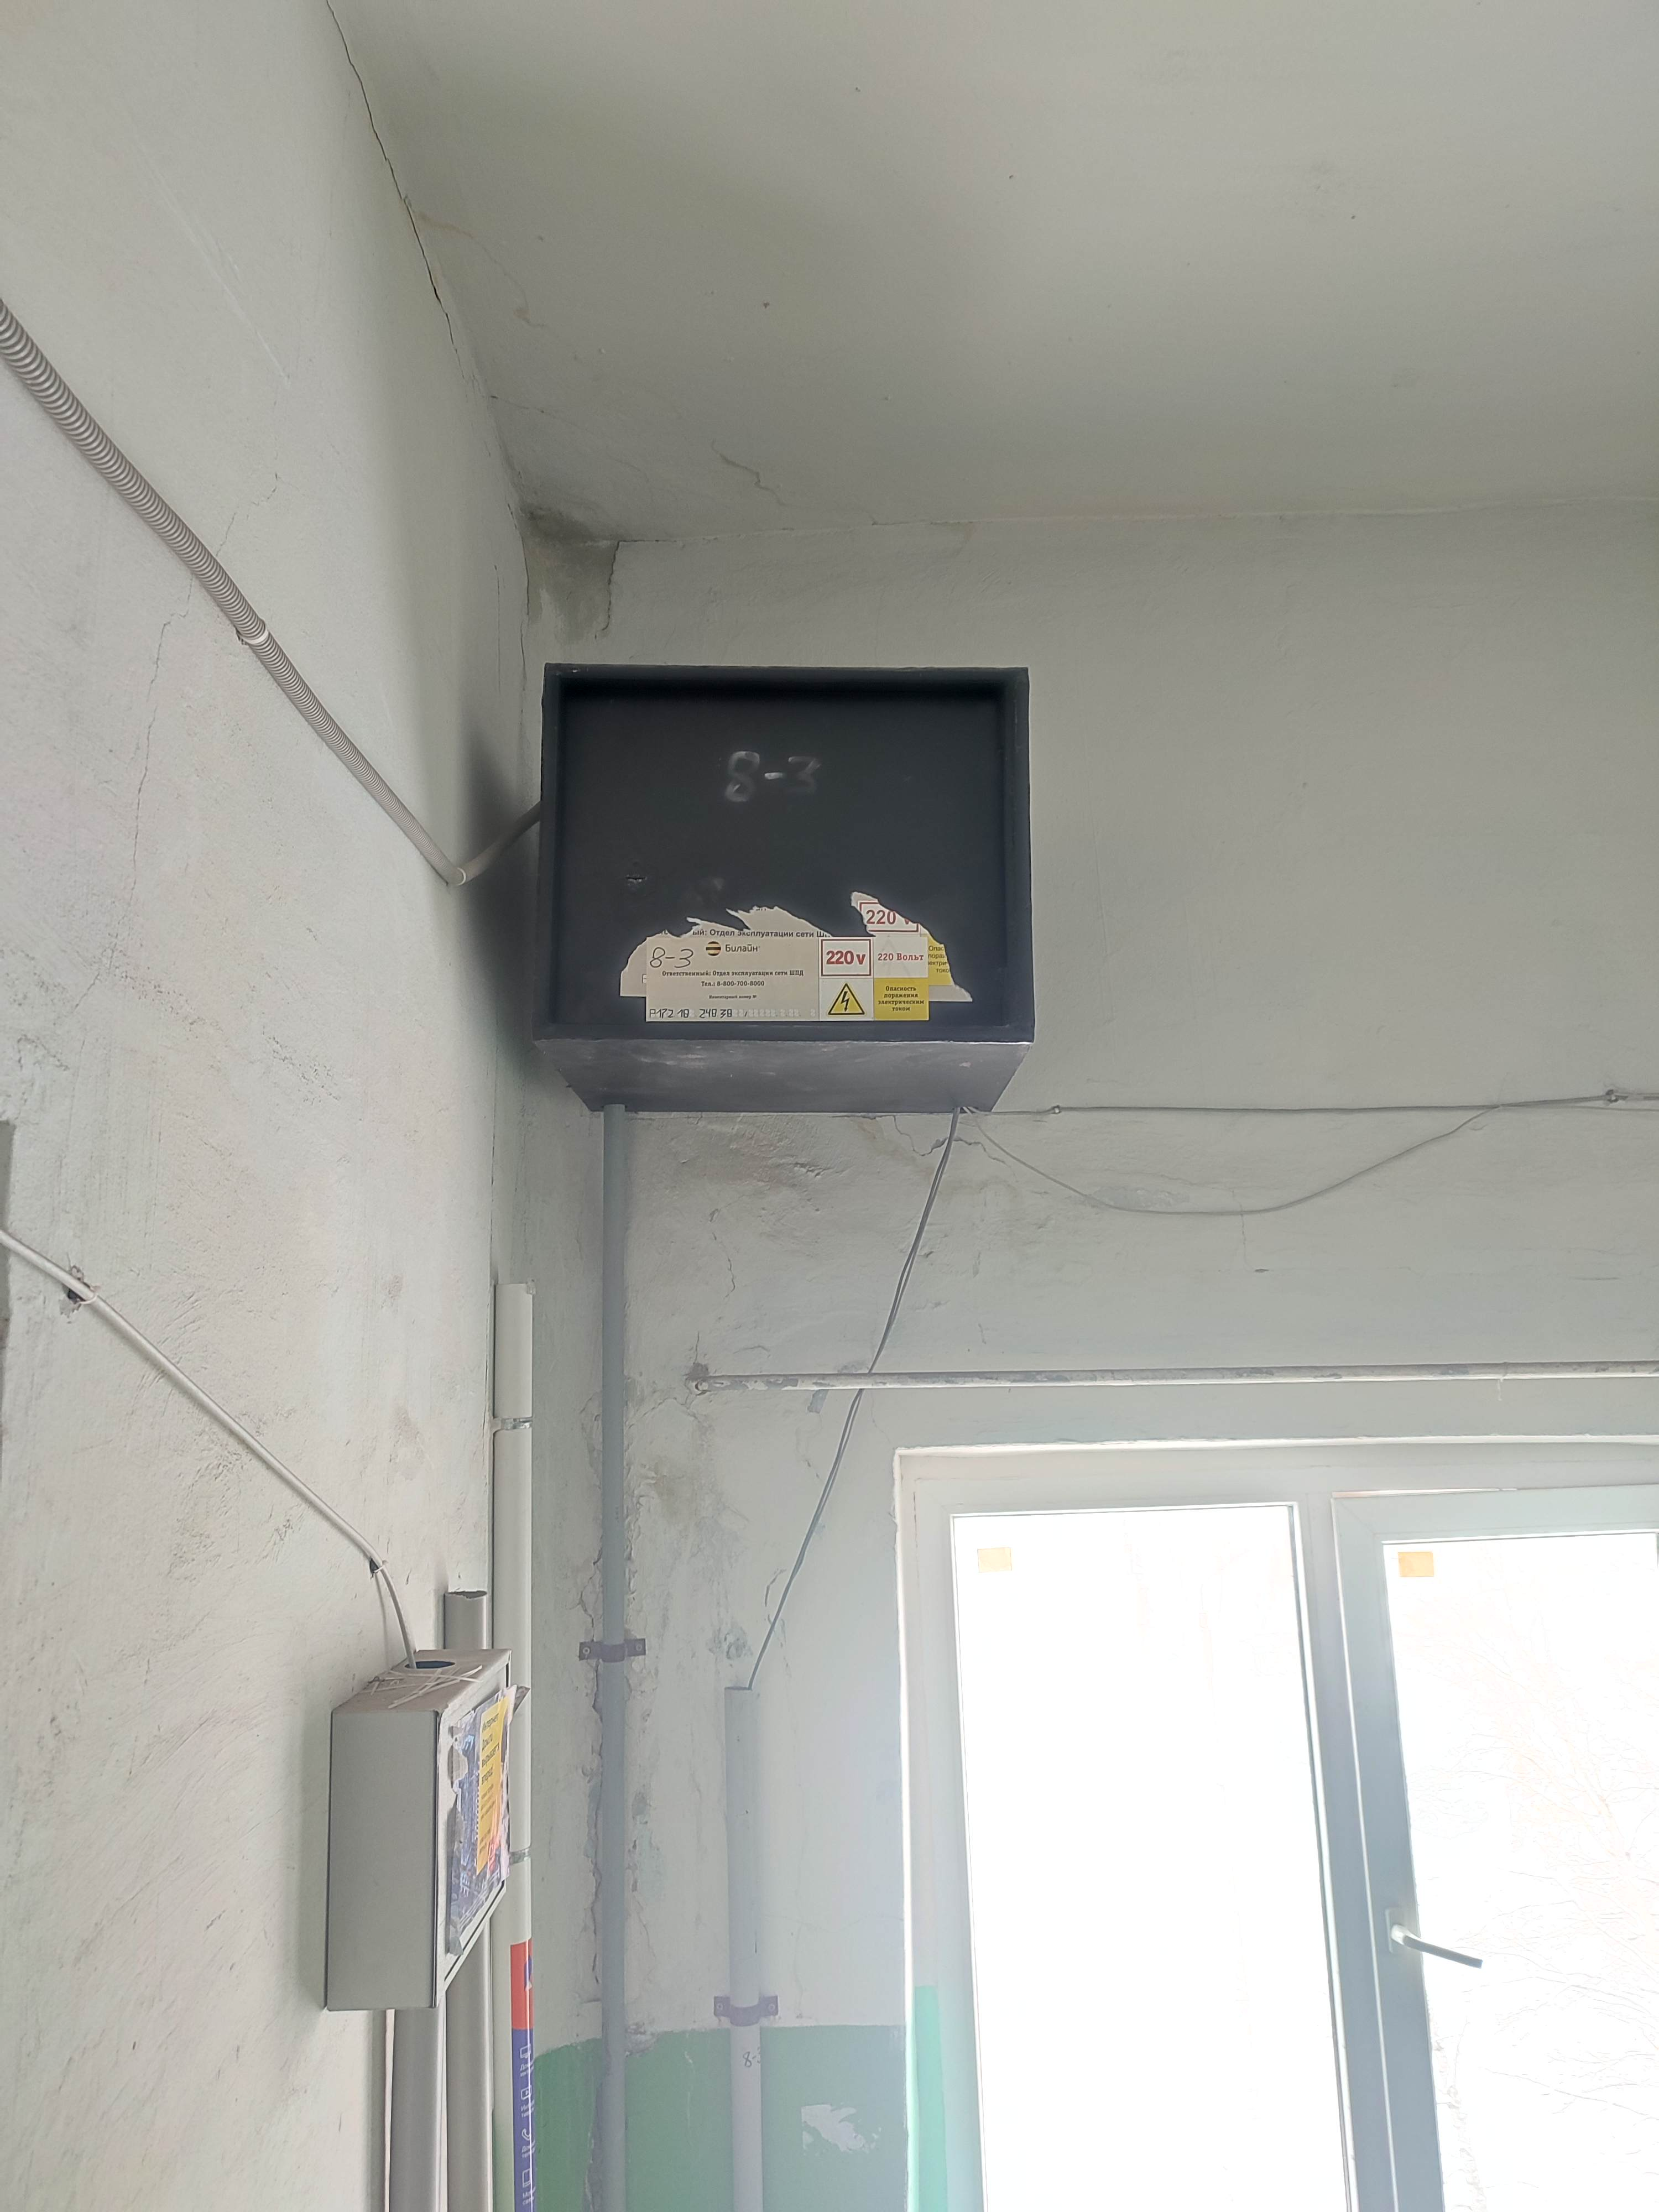shta-9m: (521, 660, 1042, 1116)
